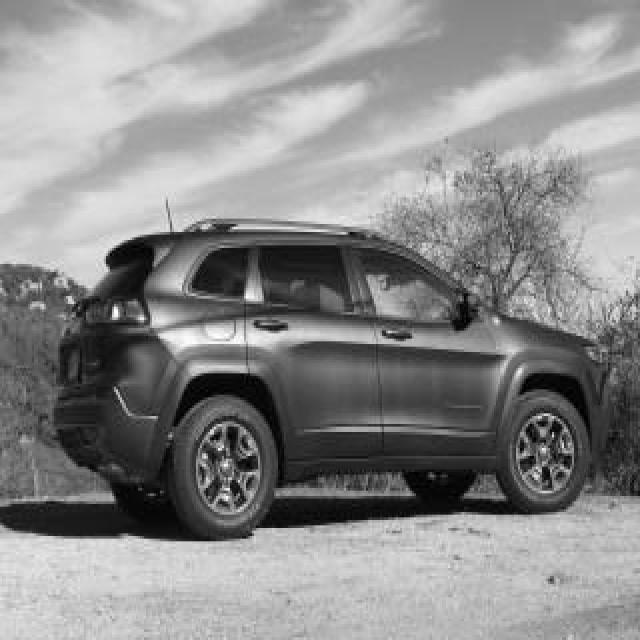Car: (56, 220, 609, 537)
